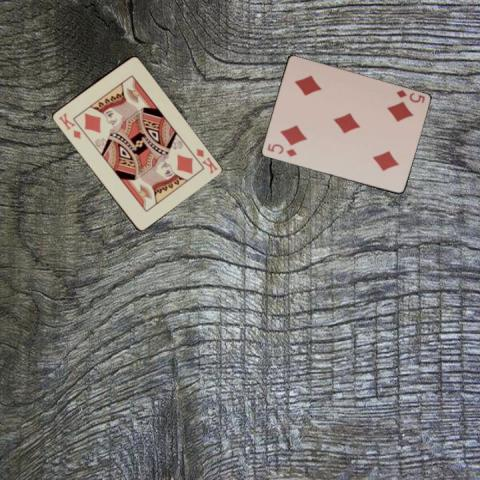5d: (264, 141, 298, 158), (393, 87, 426, 104)
Kd: (55, 109, 82, 140), (193, 146, 219, 176)
